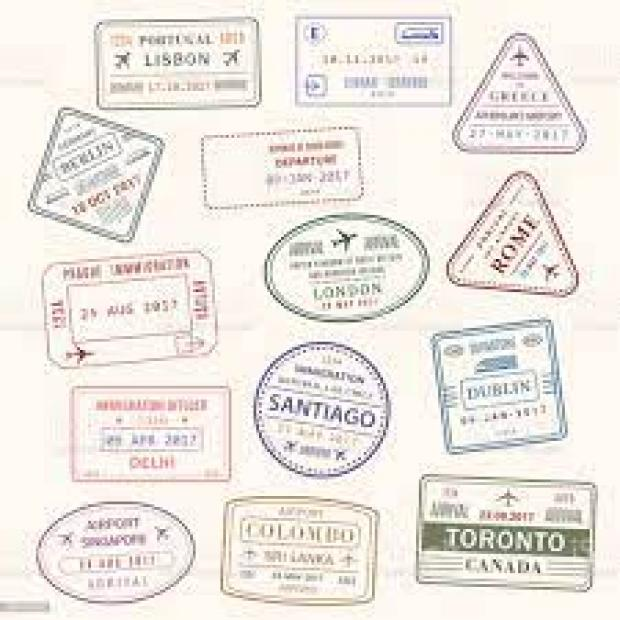Ink-stamps: (256, 337, 397, 477), (87, 19, 276, 115), (293, 14, 461, 104)
